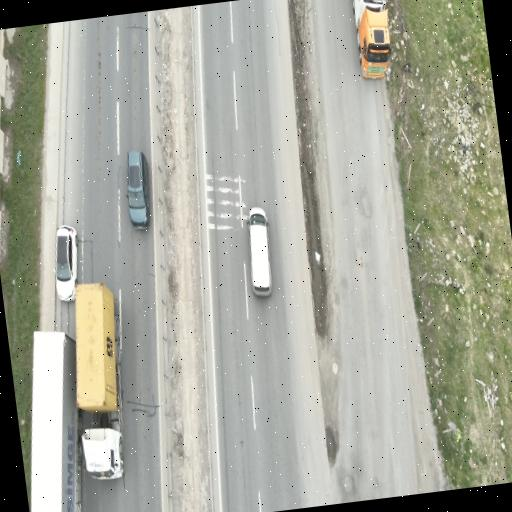car: (248, 207, 272, 296), (55, 225, 78, 301), (127, 151, 149, 228)
truck: (76, 283, 123, 479), (31, 332, 82, 511), (353, 0, 391, 78)
